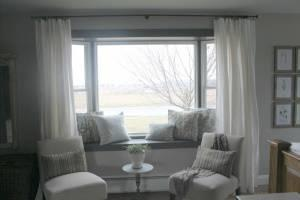window: (65, 39, 222, 134)
